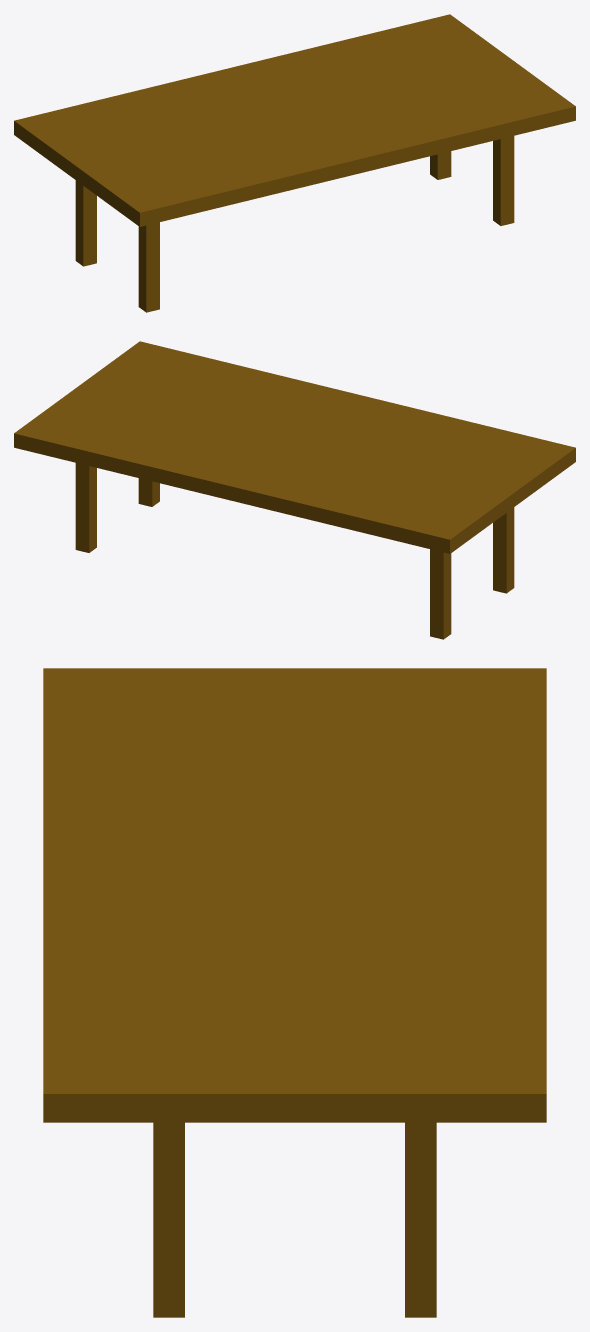
The model's file is BreakableTable2.fbx.
The picture shows the model from 3 angles, top to bottom: view 1: azimuth 30°, elevation 25°; view 2: azimuth 150°, elevation 25°; view 3: azimuth 270°, elevation 25°; orthographic projection. The views are drawn at different scales.
Parts seen in each view (by area): view 1: TableMain, TableL3, TableL2, TableL4, TableL3_cell.002, TableL2_cell.003, TableL1, TableL2_cell.001; view 2: TableMain, TableL4, TableL3, TableL1, TableL4_cell, TableL3_cell.002, TableL1_cell.005, TableL1_cell, TableL2; view 3: TableMain, TableL2, TableL1, TableL1_cell.004, TableL2_cell.002, TableL1_cell.
Boxes of the visible parts, <box> form: TableMain: <box>14,14,575,226</box>; TableL3: <box>138,222,159,312</box>; TableL2: <box>493,136,514,225</box>; TableL4: <box>75,188,96,266</box>; TableL3_cell.002: <box>138,244,159,310</box>; TableL2_cell.003: <box>493,159,514,203</box>; TableL1: <box>430,151,451,179</box>; TableL2_cell.001: <box>500,136,514,167</box>; TableMain: <box>14,341,575,553</box>; TableL4: <box>430,549,451,638</box>; TableL3: <box>493,508,514,592</box>; TableL1: <box>75,463,96,552</box>; TableL4_cell: <box>430,580,449,639</box>; TableL3_cell.002: <box>493,529,514,593</box>; TableL1_cell.005: <box>75,463,96,507</box>; TableL1_cell: <box>75,507,89,543</box>; TableL2: <box>138,478,159,506</box>; TableMain: <box>43,668,546,1122</box>; TableL2: <box>153,1122,184,1317</box>; TableL1: <box>405,1122,436,1317</box>; TableL1_cell.004: <box>405,1249,436,1317</box>; TableL2_cell.002: <box>153,1232,184,1317</box>; TableL1_cell: <box>405,1223,436,1277</box>.
Bounding box in the file's own units: 1600 × 450 × 800.
